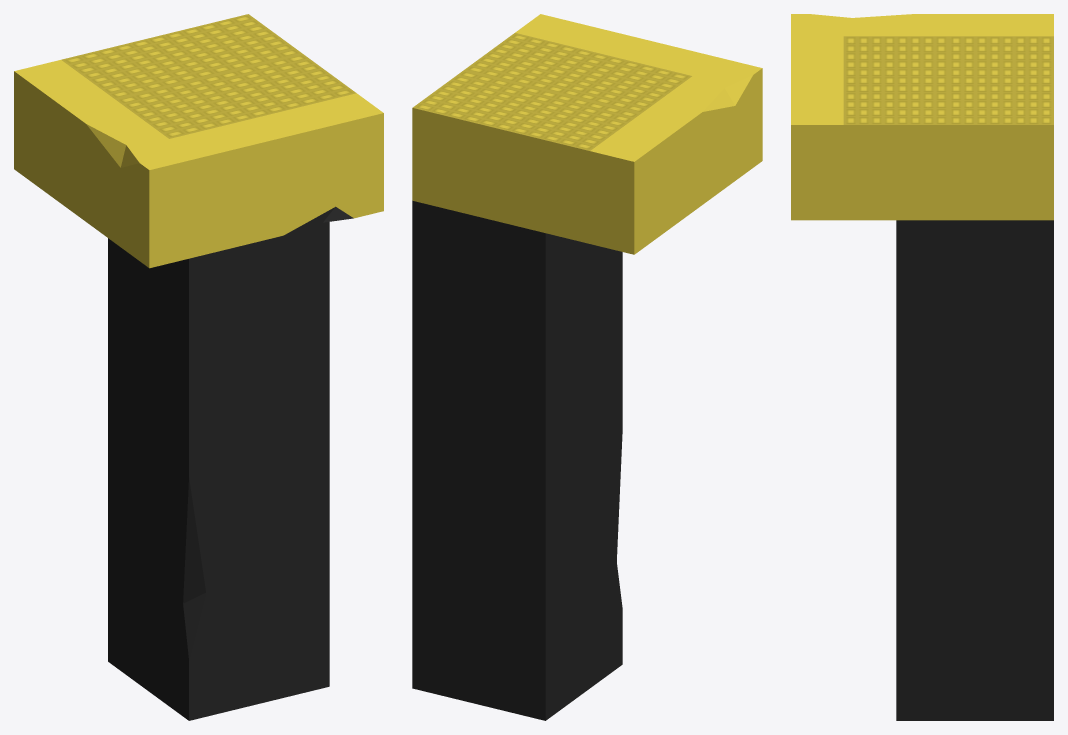
The model's file is SW_ENV_PlatformEdge_B_Crnr_01.fbx.
The picture shows the model from 3 angles, left to right: view 1: azimuth 30°, elevation 25°; view 2: azimuth 150°, elevation 25°; view 3: azimuth 270°, elevation 25°; orthographic projection. The views are drawn at different scales.
Visible parts, largest first — view 1: SW_ENV_PlatformEdge_B_Crnr_01; view 2: SW_ENV_PlatformEdge_B_Crnr_01; view 3: SW_ENV_PlatformEdge_B_Crnr_01.
Part boxes in pixels (box(x1,y1,x2,y2)): SW_ENV_PlatformEdge_B_Crnr_01: box(14, 14, 383, 720); SW_ENV_PlatformEdge_B_Crnr_01: box(412, 14, 762, 720); SW_ENV_PlatformEdge_B_Crnr_01: box(791, 14, 1053, 720).
Bounding box in the file's own units: 50 × 125 × 50.
